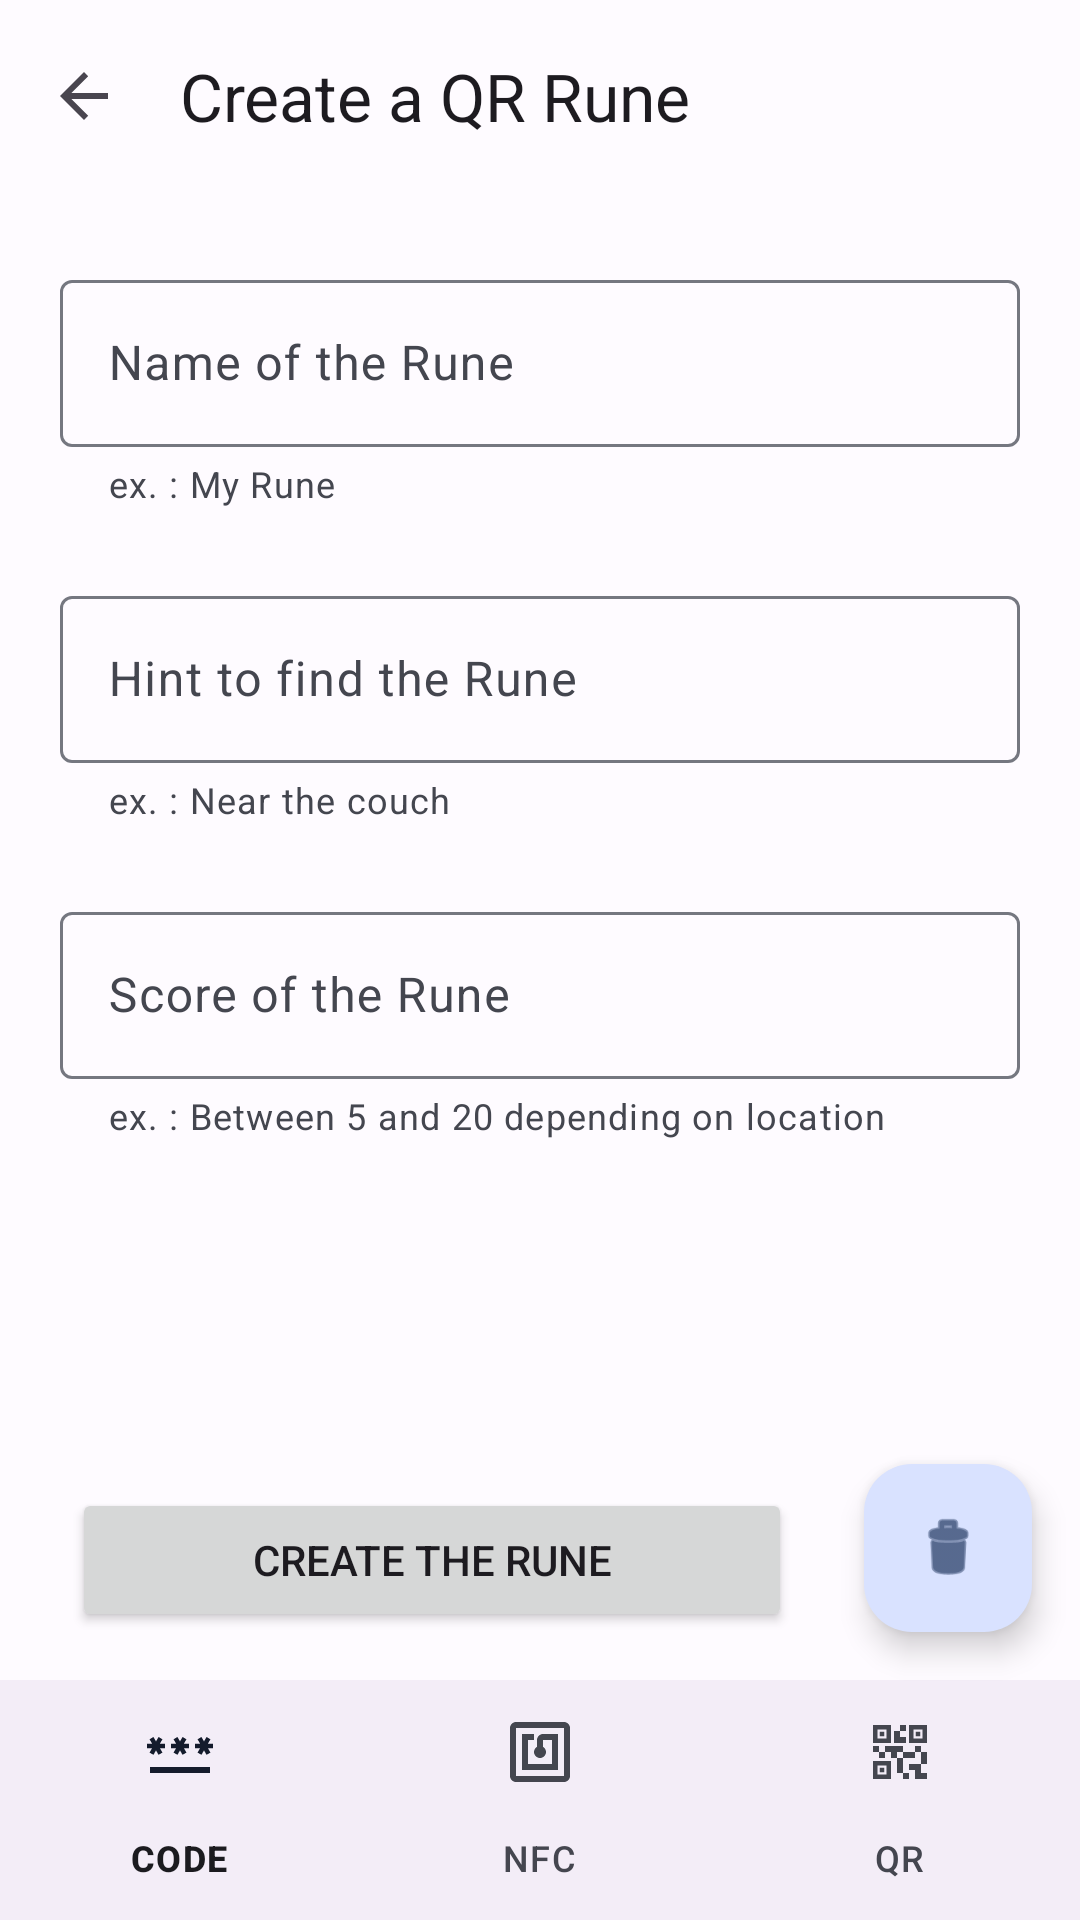

Named icons in this screenshot (1080 x 1920) and their bounding boxes, BBox(x1, y1, x2, y2):
Delete rune: BBox(864, 1464, 1032, 1632)
